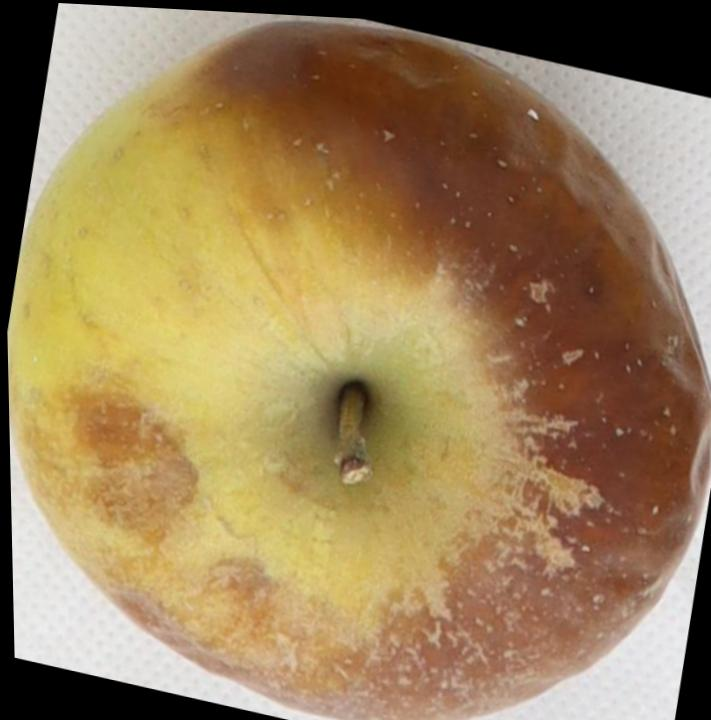apple: (7, 21, 711, 720)
rot_mold_decay: (114, 22, 711, 720), (73, 395, 194, 544)
